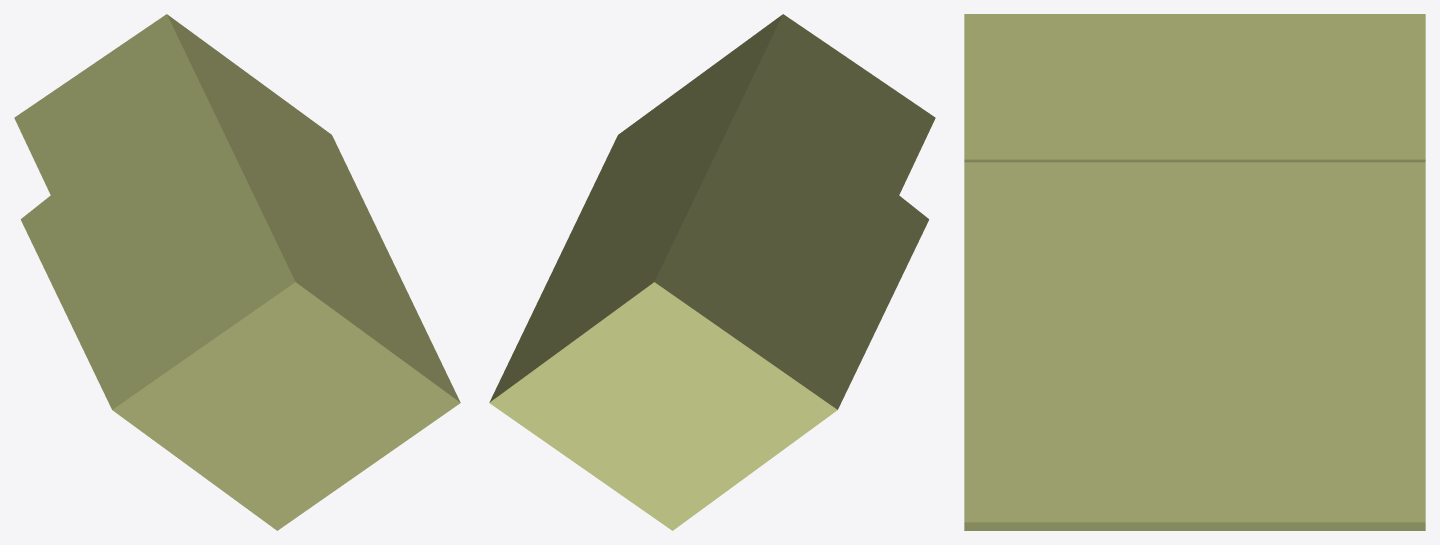
3 views of the same model, side by side, from view 1: azimuth 30°, elevation 25°; view 2: azimuth 150°, elevation 25°; view 3: azimuth 270°, elevation 25° (orthographic). The views are drawn at different scales.
Parts seen in each view (by area): view 1: 0_3_1_3_0_0_3_0_1_3_3; view 2: 0_3_1_3_0_0_3_0_1_3_3; view 3: 0_3_1_3_0_0_3_0_1_3_3.
Boxes of the visible parts, <box> form: 0_3_1_3_0_0_3_0_1_3_3: <box>14,14,460,530</box>; 0_3_1_3_0_0_3_0_1_3_3: <box>489,14,935,530</box>; 0_3_1_3_0_0_3_0_1_3_3: <box>964,14,1425,530</box>.
Bounding box in the file's own units: 8.85 × 11.5 × 9.
